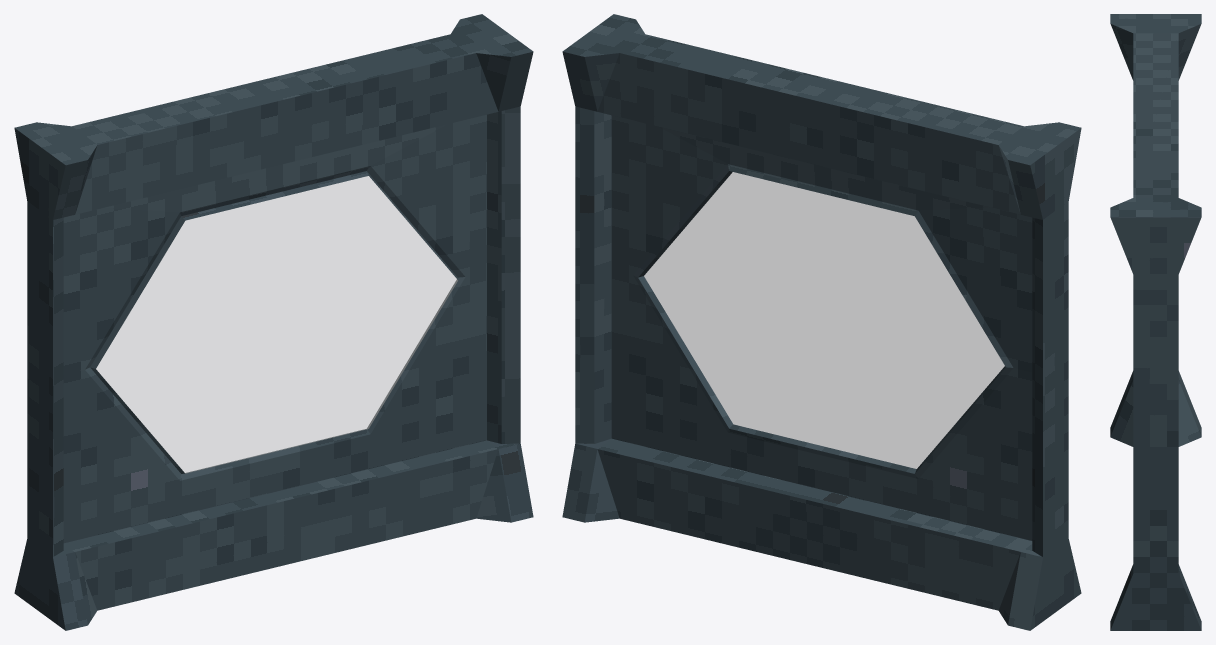
The model's file is Window.fbx.
3 views of the same model, side by side, from view 1: azimuth 30°, elevation 25°; view 2: azimuth 150°, elevation 25°; view 3: azimuth 270°, elevation 25° (orthographic). The views are drawn at different scales.
Visible parts, largest first — view 1: Gen1Window; view 2: Gen1Window; view 3: Gen1Window.
Boxes of the visible parts, box(x1,y1,x2,y2) form: Gen1Window: box(14, 14, 533, 630); Gen1Window: box(562, 14, 1081, 630); Gen1Window: box(1110, 14, 1201, 630).
Size of the model in its own units: 421 by 80.01 by 401.
2 materials, 1 textured.
